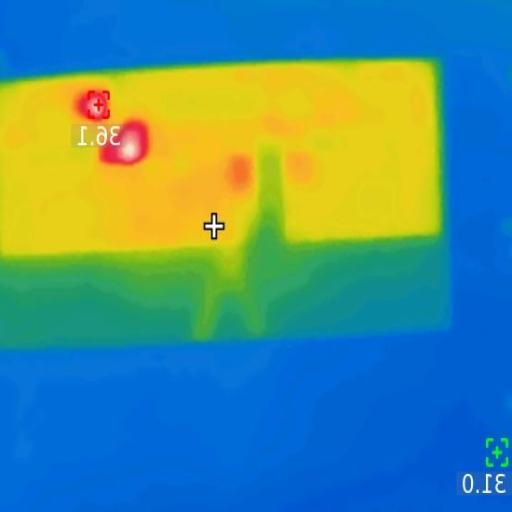hotspot: (118, 131, 142, 163), (85, 96, 105, 118)
